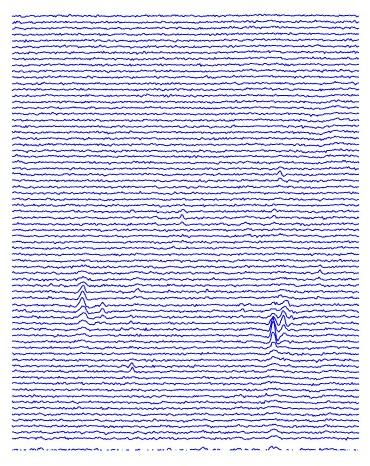defect: (258, 310, 281, 350), (72, 280, 89, 316), (176, 204, 192, 231), (273, 160, 287, 188), (122, 359, 139, 376), (97, 297, 107, 323)
